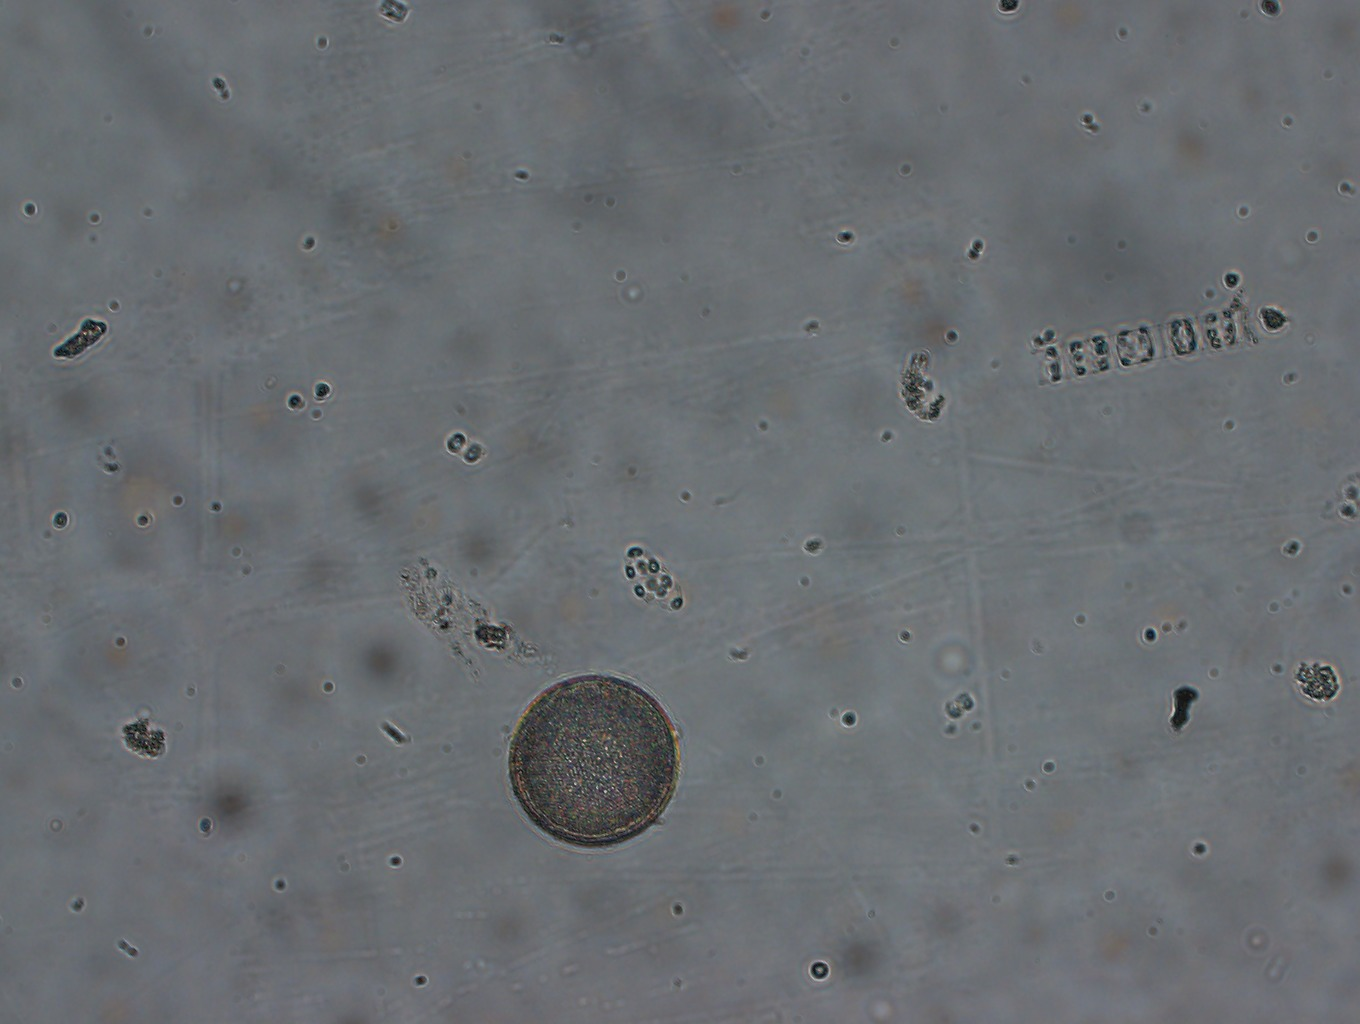coscinodiscus: (499, 668, 684, 851)
skeletonema: (1022, 300, 1259, 387)
